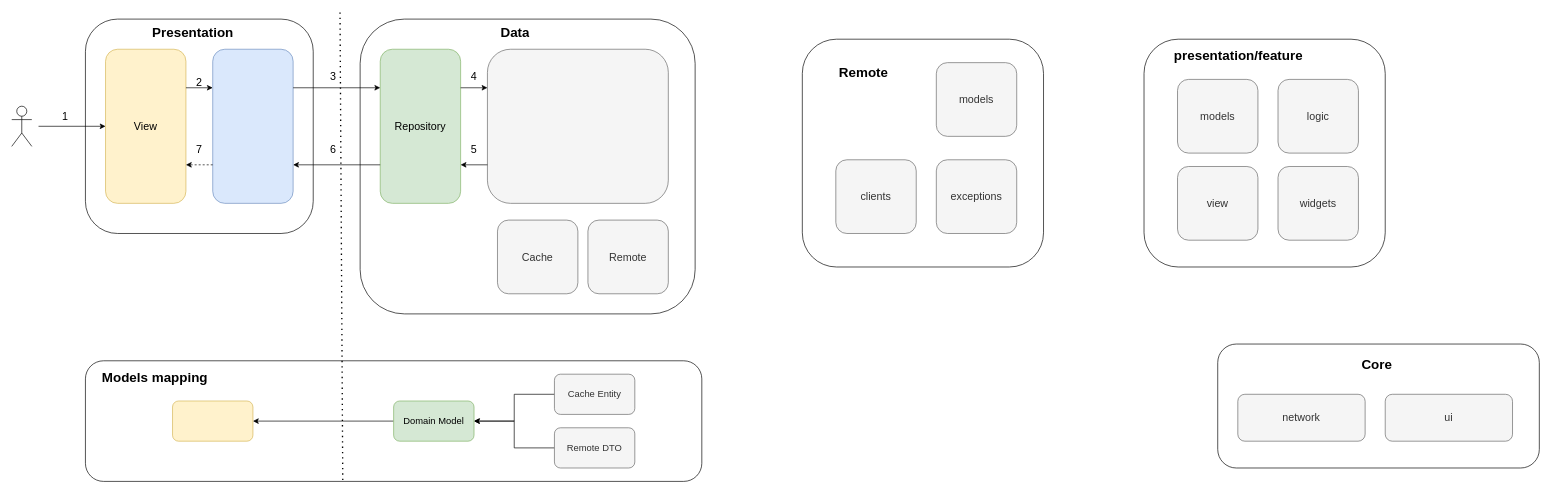
Some shapes in this 1551 by 494 pixel diagram are drawn without their labels. Each missing label, with the centre of its shape:
"Actor" belongs at [21,126].
"Data Provider" belongs at [577,126].
"Logic (bloc)" belongs at [252,126].
"Ui Data" belongs at [212,420].
